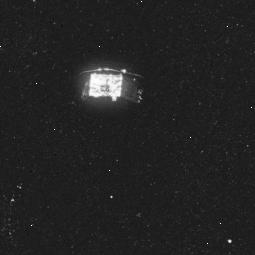lisa_pathfinder: (71, 61, 160, 114)
